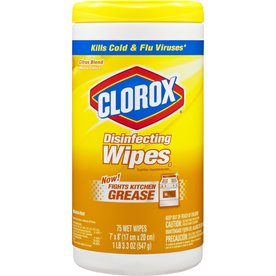Wipes: (66, 1, 209, 276)
